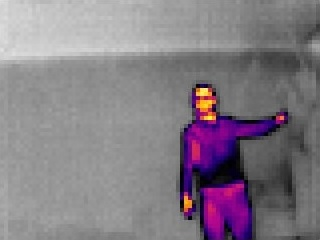human: (179, 84, 289, 240)
